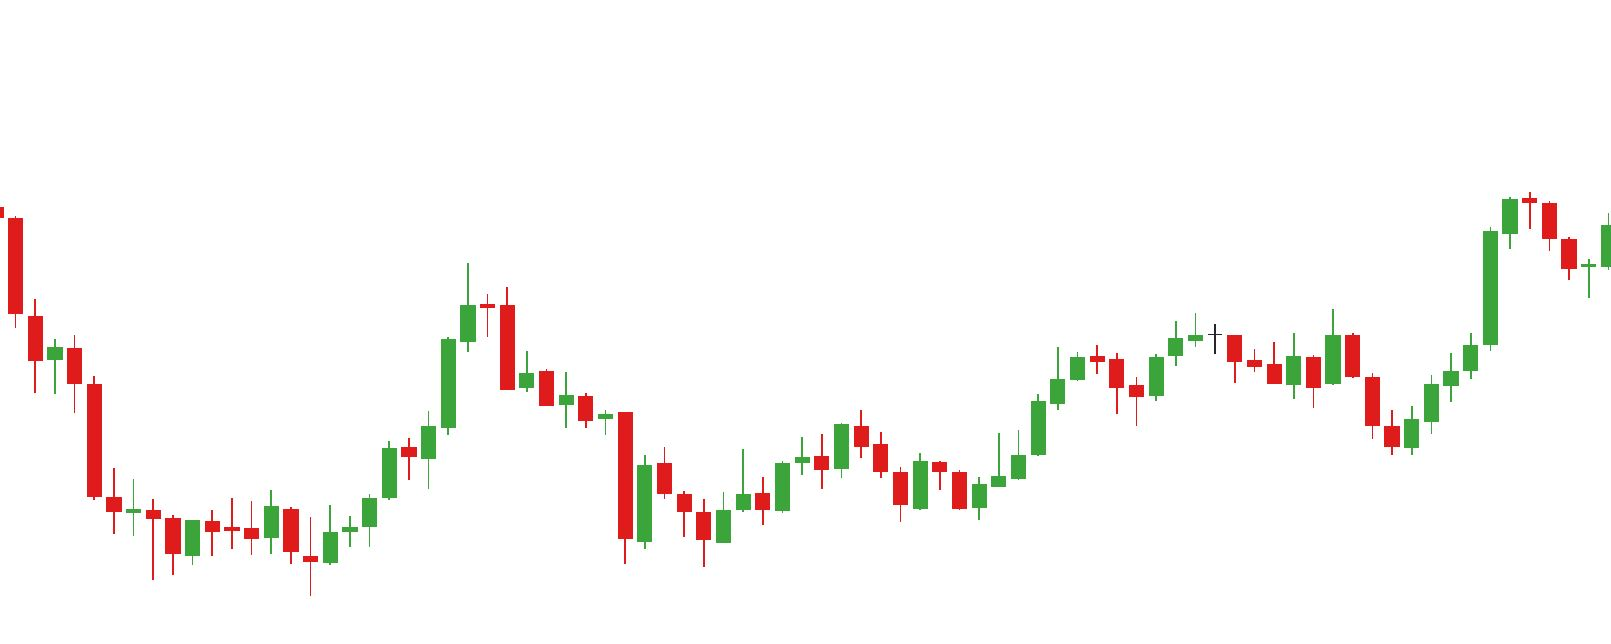buy: (1127, 355, 1424, 457)
